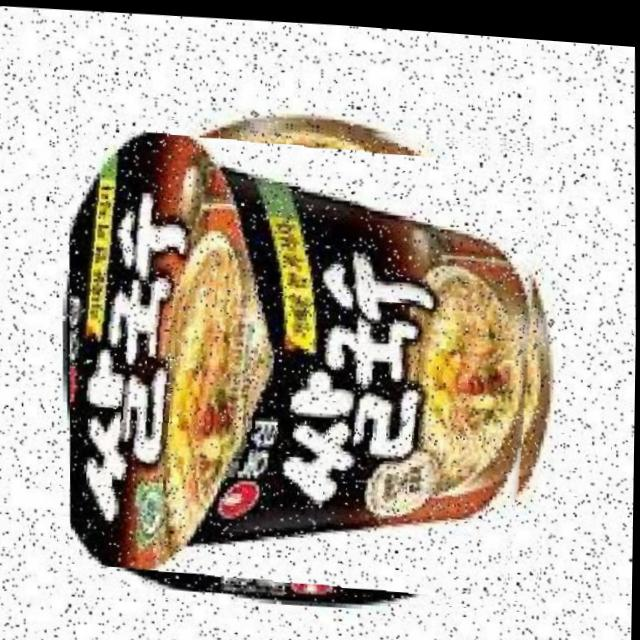Miscellaneous: (64, 101, 552, 610)
